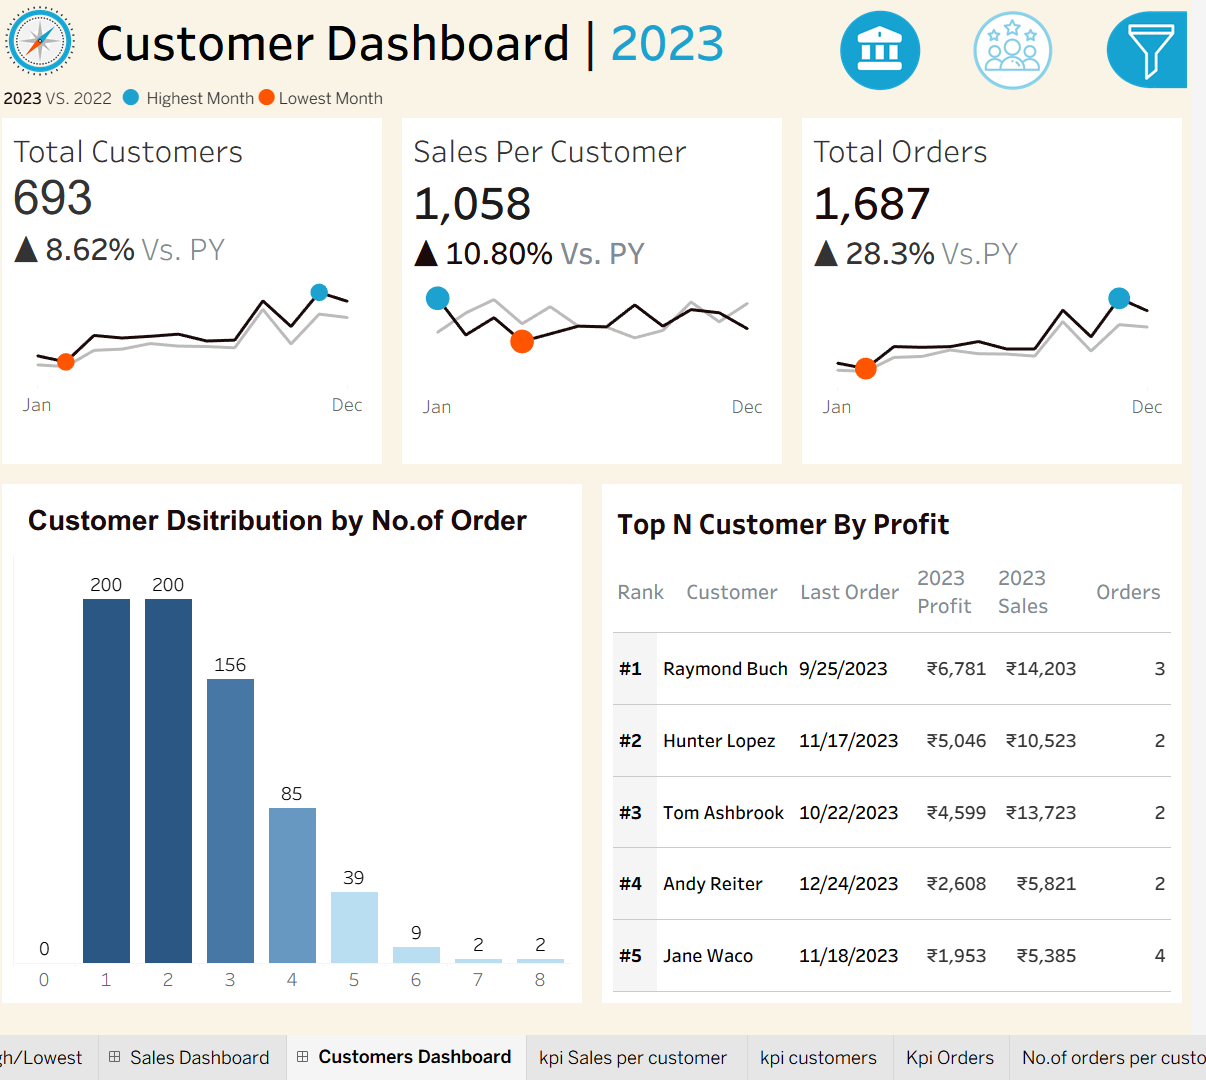

The dashboard page shown, as its layout file describes it:
{"tool":"tableau","page":{"name":" Customers Dashboard ","canvas":[1200,1200],"ordinal":0},"visuals":[{"type":"image","param":"Image/Icon - Logo.png","box":[0,0,95,82]},{"type":"text","box":[95,0,1105,82]},{"type":"dashboard-object","box":[820,5,134,90]},{"type":"dashboard-object","box":[954,5,133,90]},{"type":"worksheet","title":" High/Lowest","mark":"Automatic","box":[0,82,1200,32]},{"type":"worksheet","title":" kpi customers","mark":"Automatic","rows":["Min & Max  ( Quantity)  (copy)_1031638154588176"],"cols":["Order Date"],"box":[0,114,400,360]},{"type":"worksheet","title":" kpi Sales per customer","mark":"Automatic","rows":["Min & Max (Sales) (copy)_1031638203506718"],"cols":["Order Date"],"box":[400,114,400,360]},{"type":"worksheet","title":" Kpi Orders","mark":"Automatic","rows":["Min & Max  ( Customers)  (copy)_1031638167511061"],"cols":["Order Date"],"box":[800,114,400,360]},{"type":"text","box":[17,491,566,60]},{"type":"text","box":[617,491,566,63.6]},{"type":"worksheet","title":" No.of orders per customer","mark":"Bar","rows":["CY  Customers  (copy)_1031638232129579"],"cols":["Calculation_1031638233067565"],"box":[17,551,566,445]},{"type":"text","box":[617,554.6,65,73.2]},{"type":"text","box":[682,554.6,118,73.2]},{"type":"text","box":[800,554.6,117,73.2]},{"type":"text","box":[917,554.6,81,73.2]},{"type":"text","box":[998,554.6,98,73.2]},{"type":"text","box":[1096,554.6,87,73.2]},{"type":"worksheet","title":" Top Customers","mark":"Automatic","rows":["Calculation_1349122384269317","Customer Name","Order Date"],"box":[617,627.9,566,368.1]},{"type":"dashboard-object","box":[0,1106.5,1200,93.5]}]}

Visuals, with their boxes on the page's 1200x1200 design canvas (x1, y1, x2, y2). These are canvas units, not pixel positions in the 1206x1080 screenshot, which may show the page scaled, cropped or inside an application window:
image: region(0, 0, 95, 82)
text: region(95, 0, 1200, 82)
dashboard-object: region(820, 5, 954, 95)
dashboard-object: region(954, 5, 1087, 95)
" High/Lowest" worksheet: region(0, 82, 1200, 114)
" kpi customers" worksheet: region(0, 114, 400, 474)
" kpi Sales per customer" worksheet: region(400, 114, 800, 474)
" Kpi Orders" worksheet: region(800, 114, 1200, 474)
text: region(17, 491, 583, 551)
text: region(617, 491, 1183, 555)
" No.of orders per customer" worksheet (Bar marks): region(17, 551, 583, 996)
text: region(617, 555, 682, 628)
text: region(682, 555, 800, 628)
text: region(800, 555, 917, 628)
text: region(917, 555, 998, 628)
text: region(998, 555, 1096, 628)
text: region(1096, 555, 1183, 628)
" Top Customers" worksheet: region(617, 628, 1183, 996)
dashboard-object: region(0, 1106, 1200, 1200)
